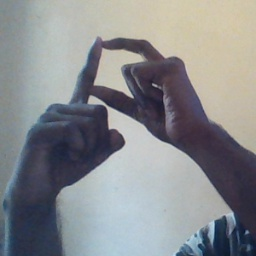D: (48, 28, 187, 151)
